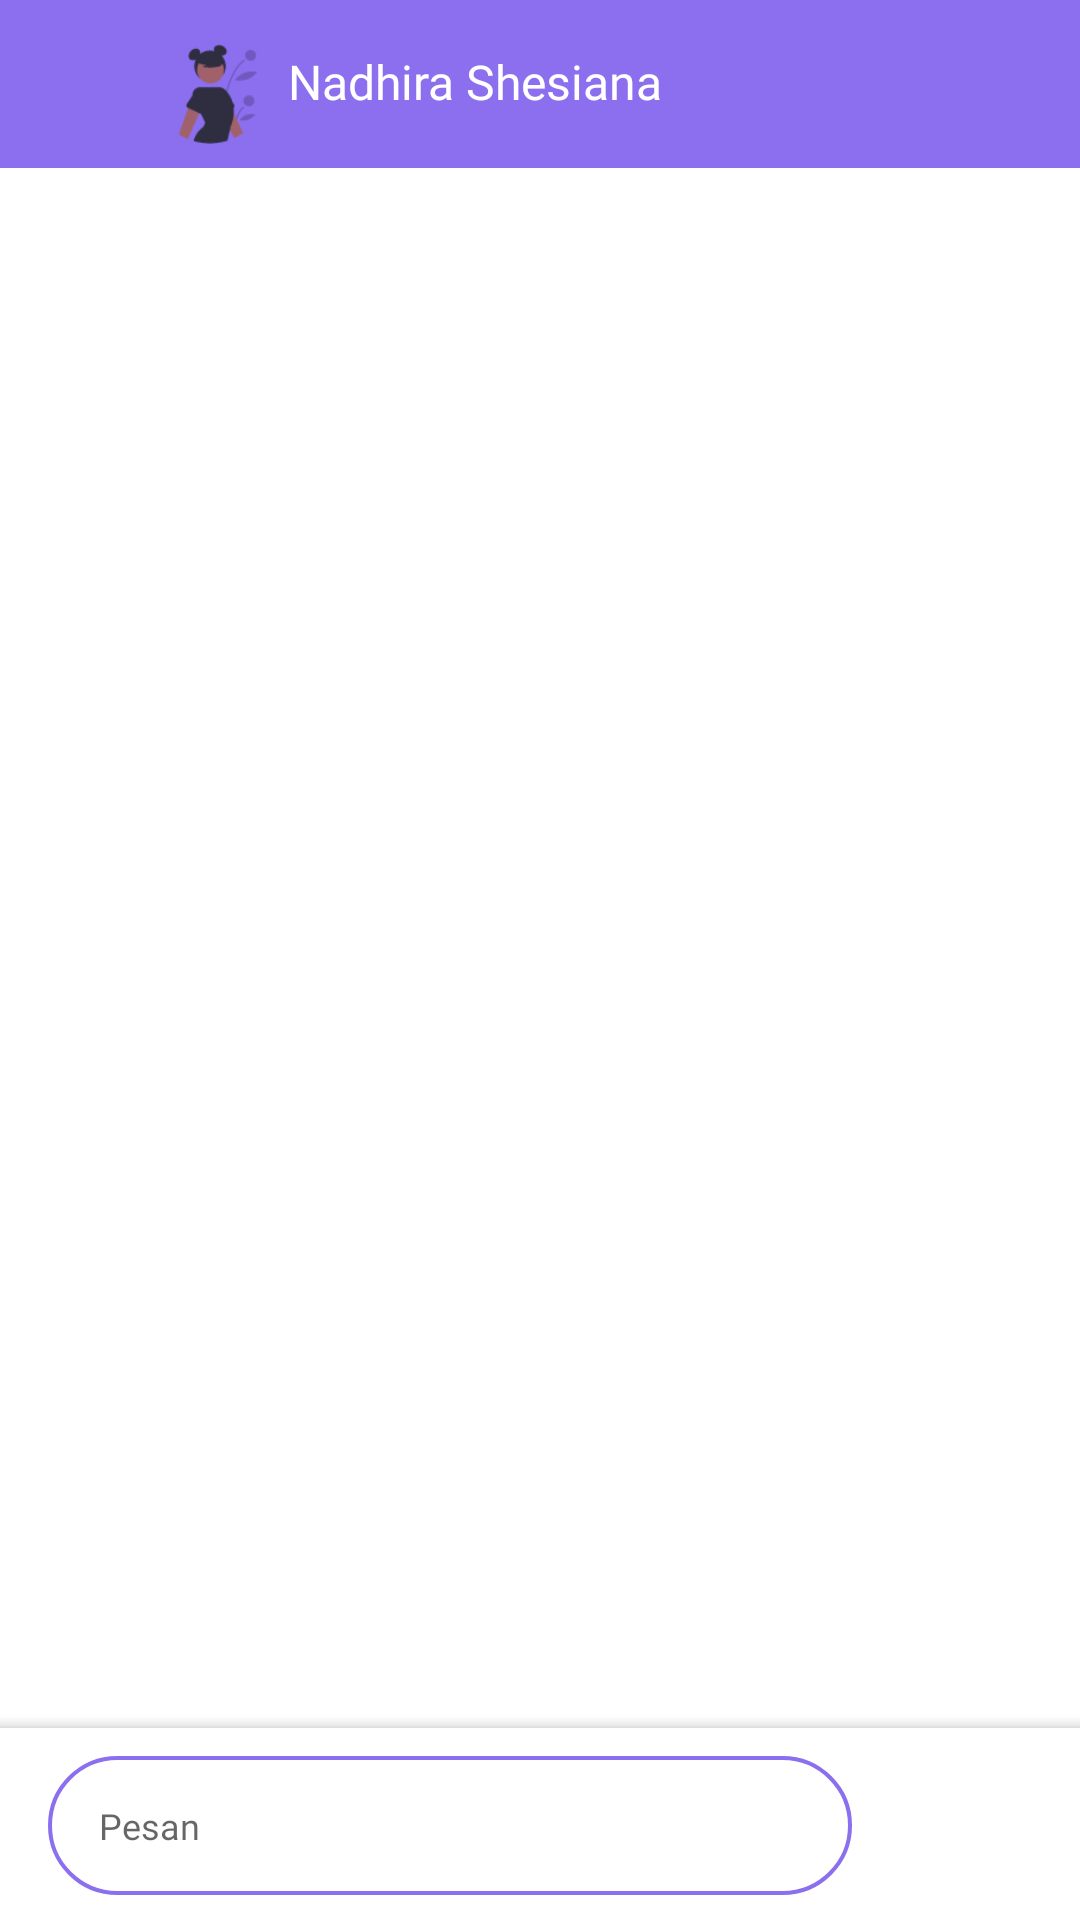

Named icons in this screenshot (1080px x 1920px) and their bounding boxes, (x1=x1, y1=y1, x2=x2, y2=y2):
admin photo: (x1=178, y1=44, x2=257, y2=144)
